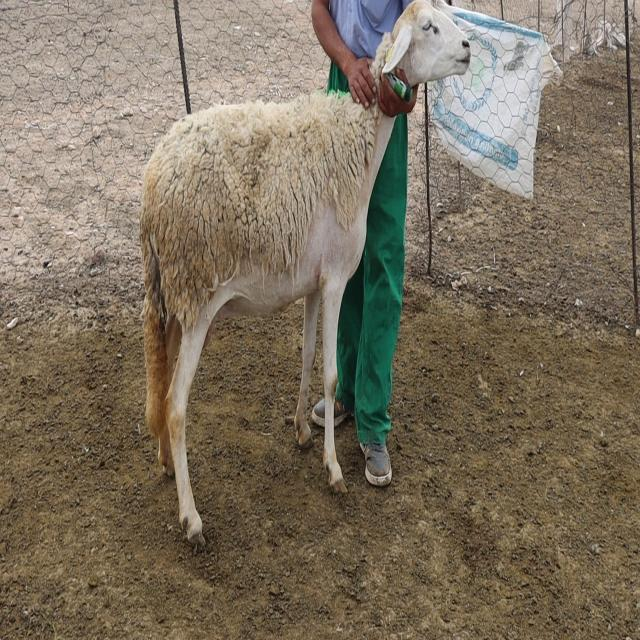Score_2: (140, 0, 471, 543)
